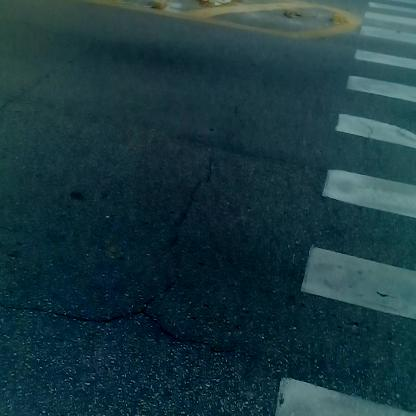crosswalk: (261, 1, 416, 410)
